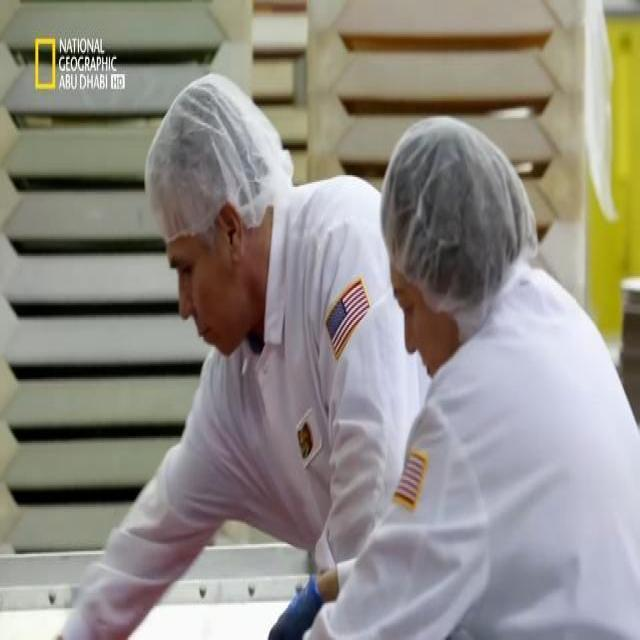gloved_hand: (261, 566, 339, 640)
